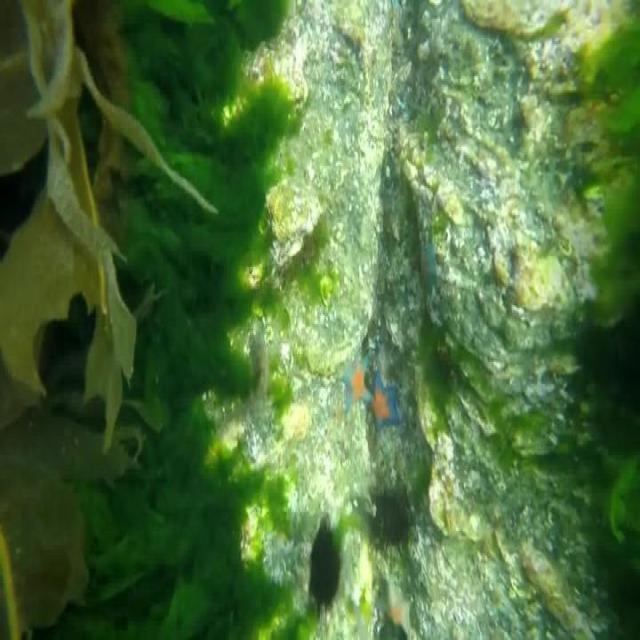echinus: (310, 515, 340, 616), (371, 488, 412, 560)
starfish: (378, 584, 411, 640), (342, 351, 371, 411), (371, 373, 401, 430), (419, 243, 439, 286)
